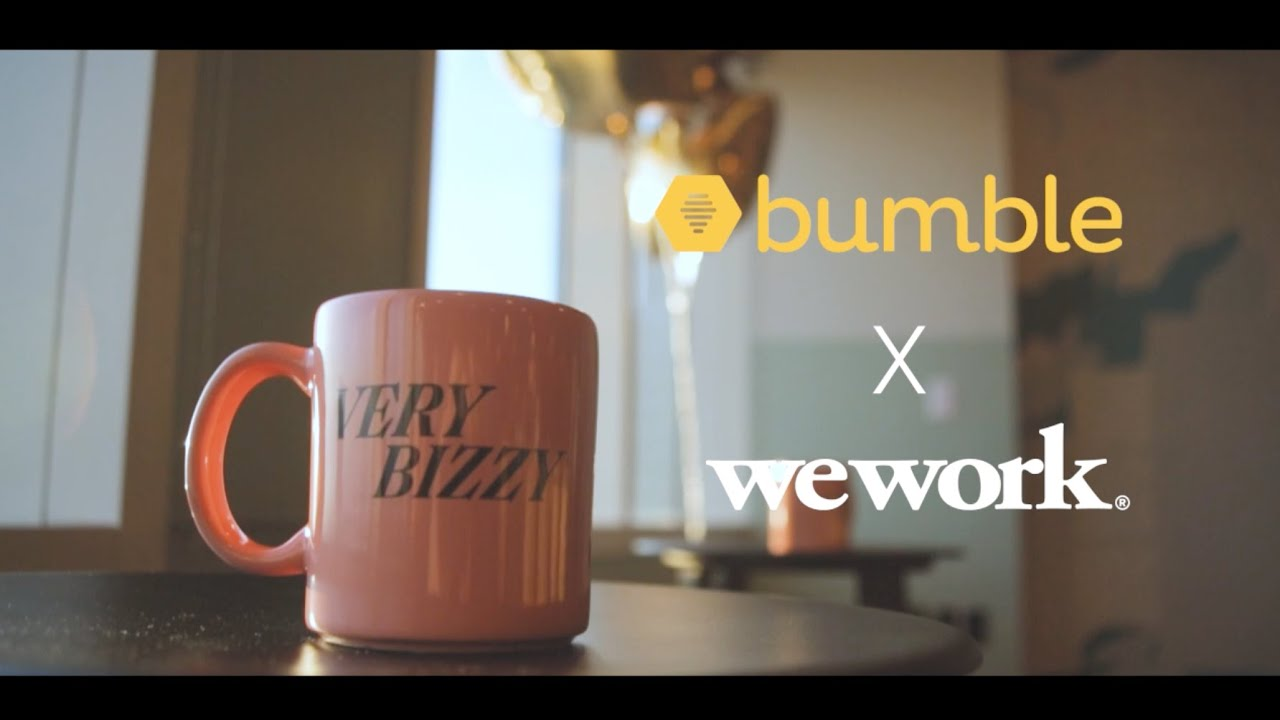wework: (696, 415, 1113, 520)
